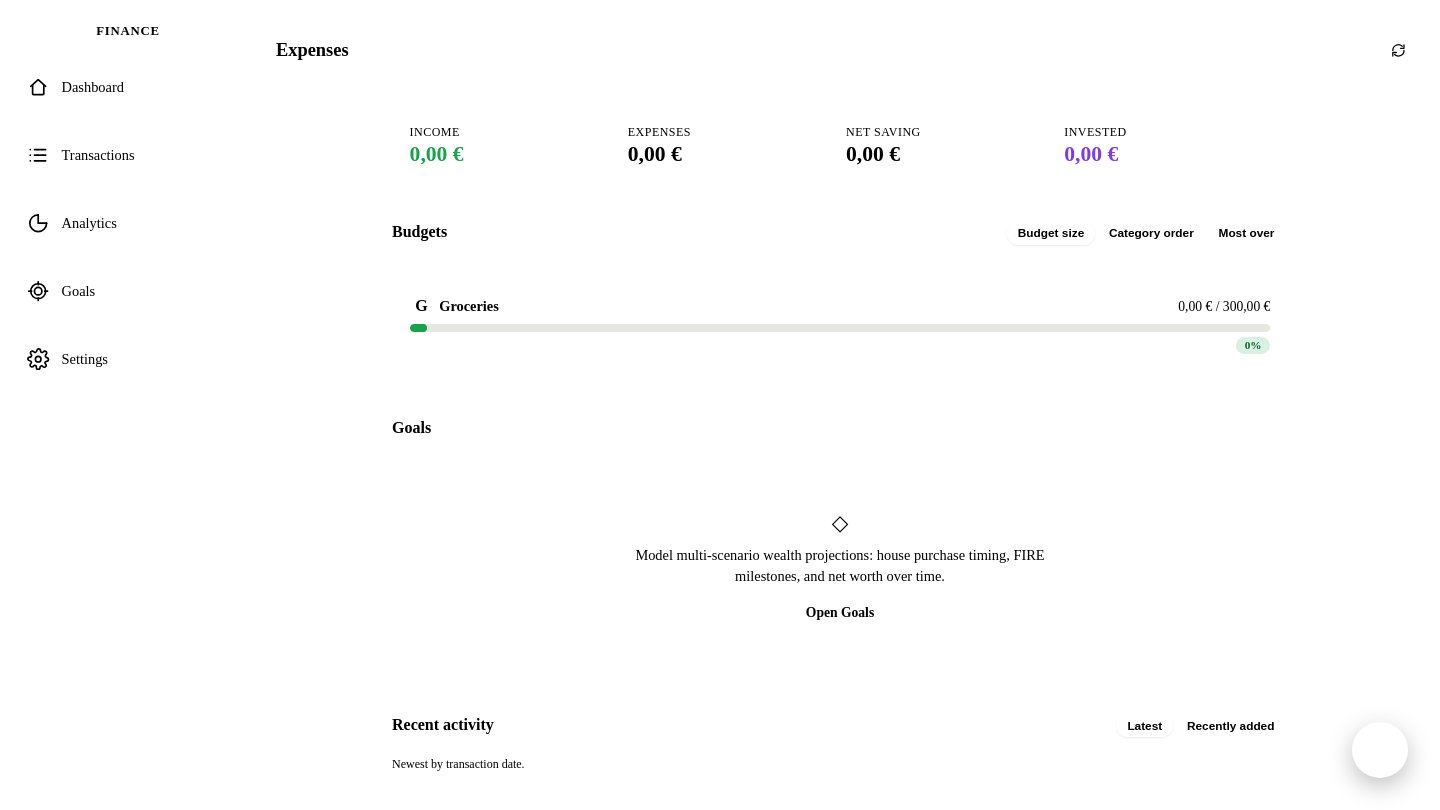
ExpensesApp settings kept for a person › lists in Settings the series the signed-in person stopped, and not another person’s
The width and height of the screenshot is (1440, 810).
Click the button "Settings": (128, 359) [16,327,240,391]
(page scrolled)
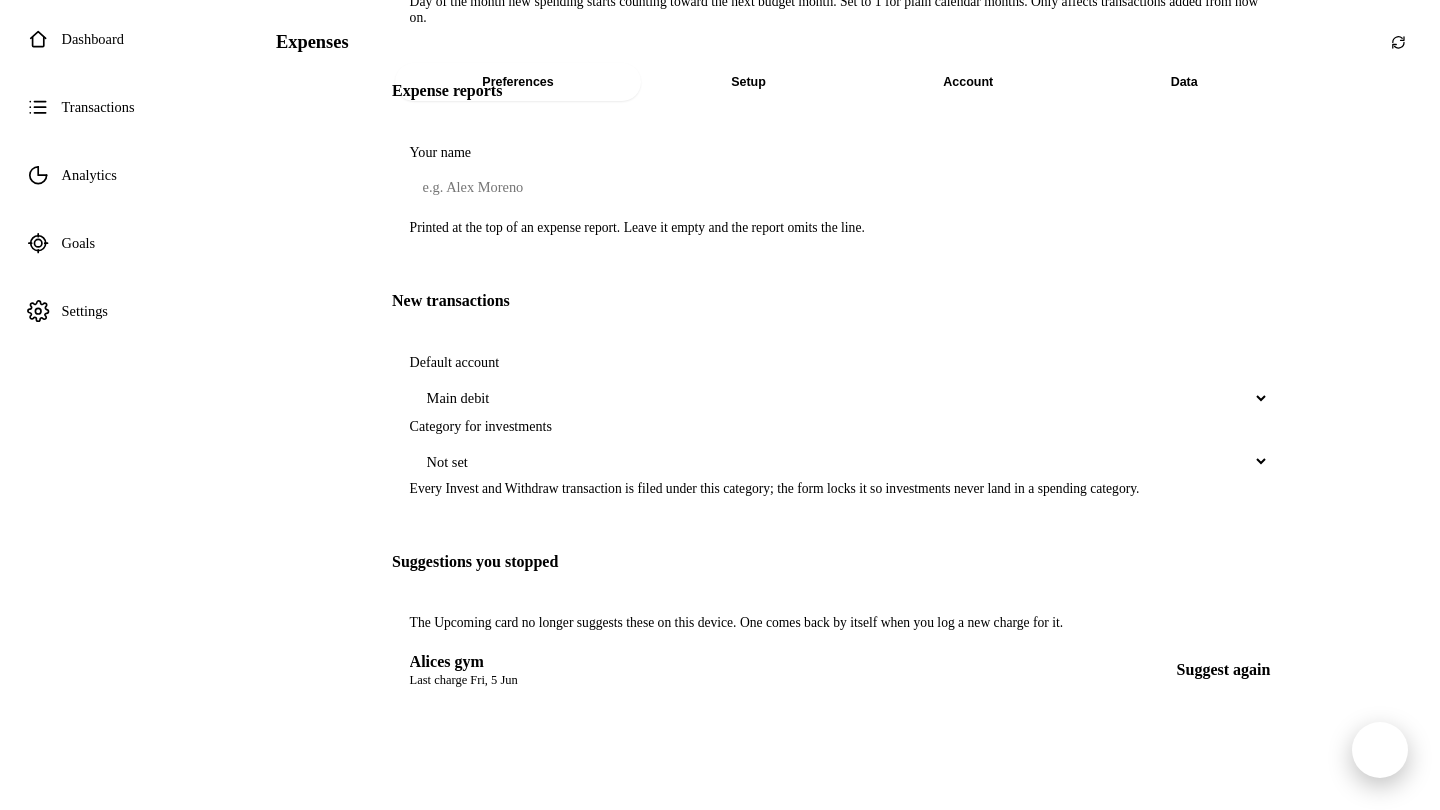
Now the text "Alices gym" is shown, box [410,653,484,670]
